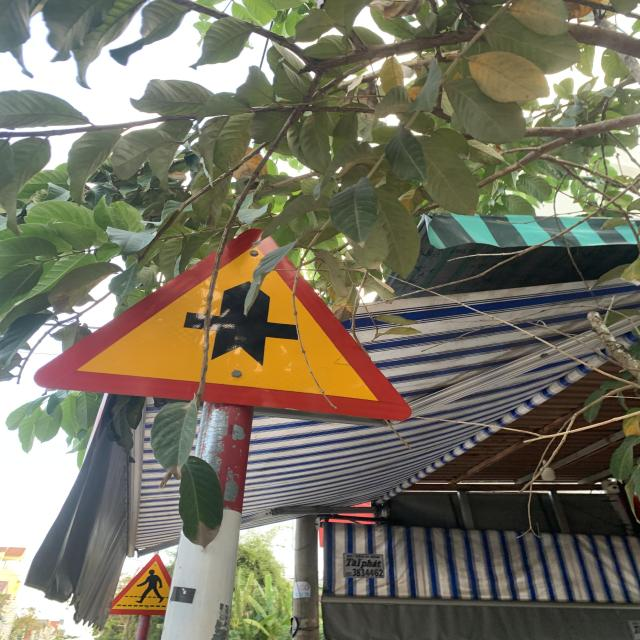Duong_Nguoi_Di_Bo_Sang_Ngang: (105, 553, 174, 613)
